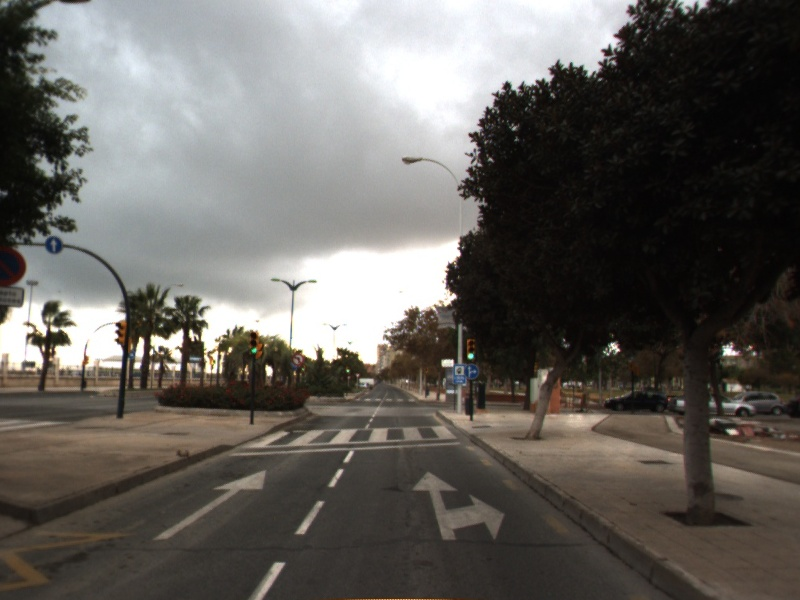STRAIGHT: (151, 467, 269, 543)
STRAIGHT_RIGHT: (410, 469, 507, 543)
